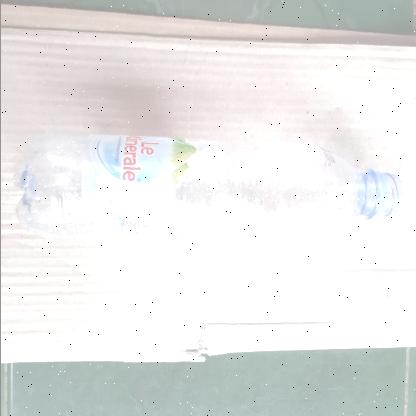Plastic Bottle: (15, 132, 400, 240)
